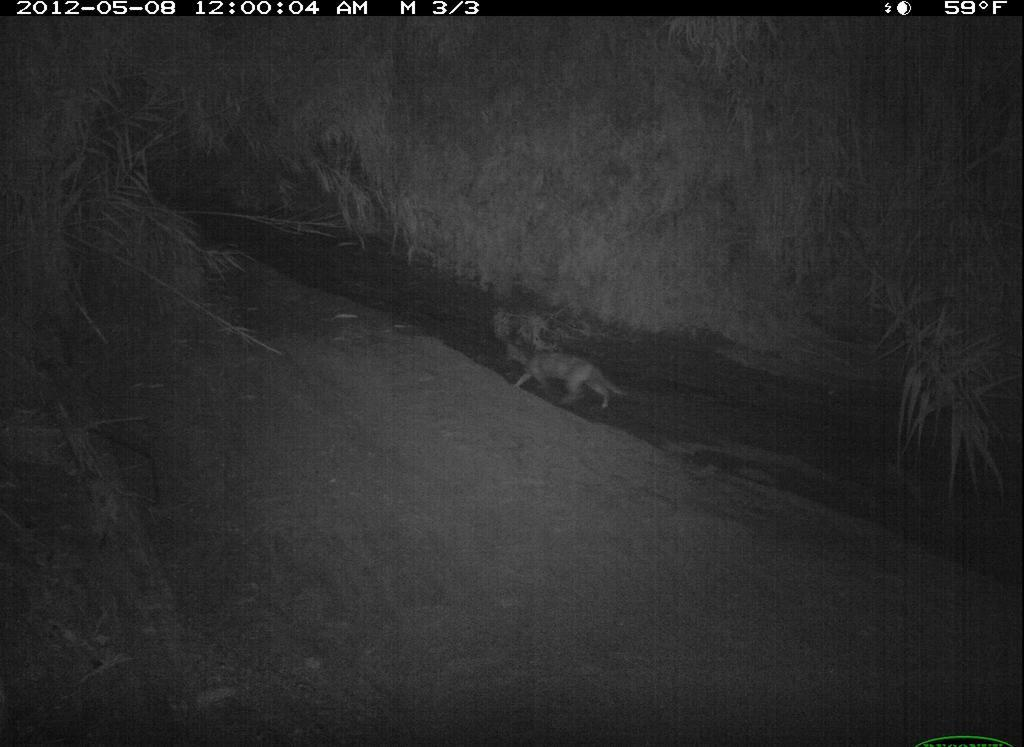cat: (997, 674, 1024, 747)
